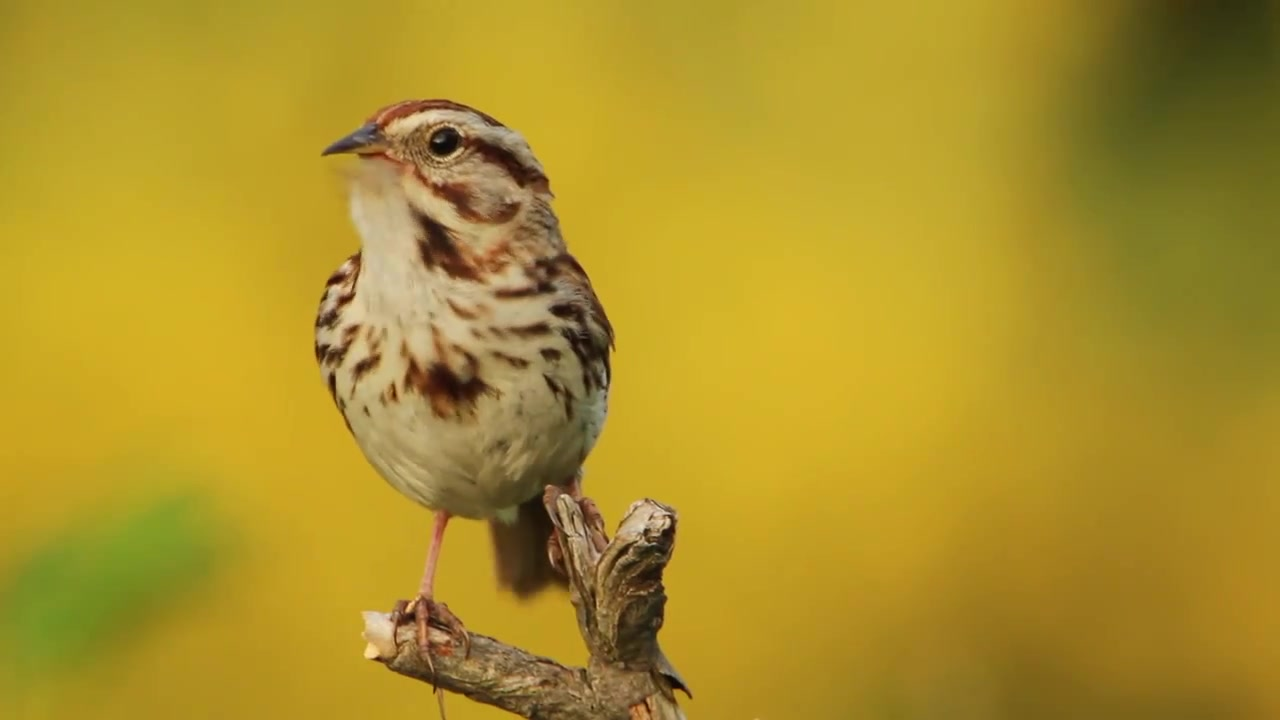bird: (313, 101, 616, 684)
